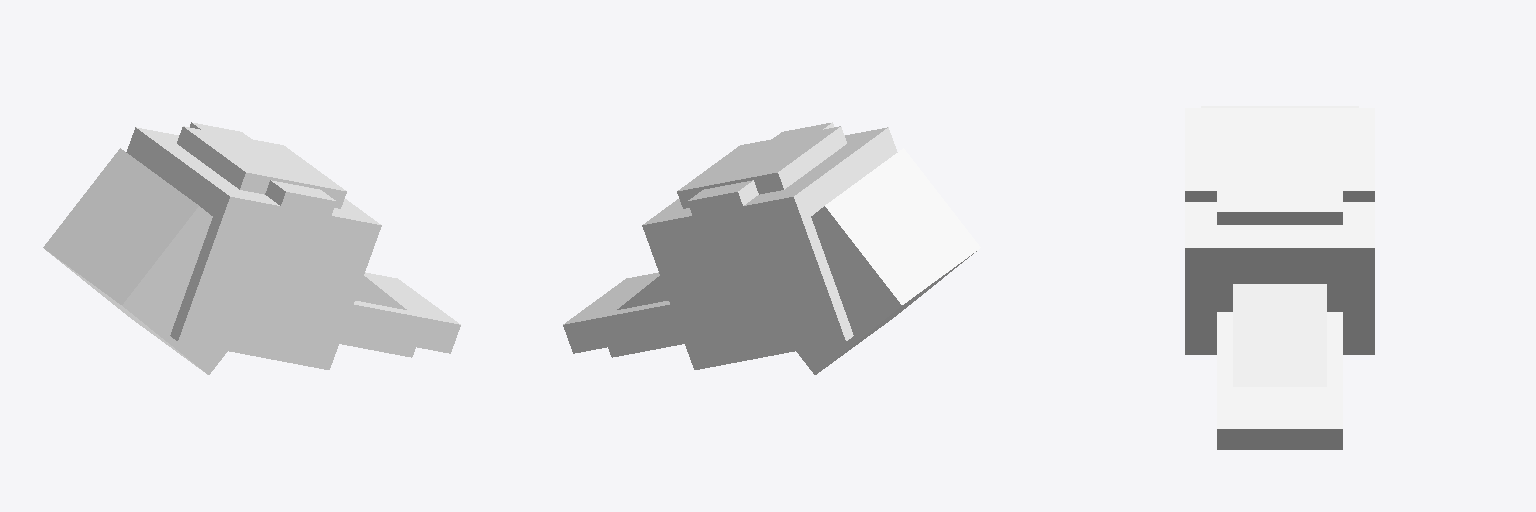
Rendered from swan_standing_head.obj.
3 renders of one model, left to right at view 1: azimuth 30°, elevation 25°; view 2: azimuth 150°, elevation 25°; view 3: azimuth 270°, elevation 25°, orthographic.
Parts seen in each view (by area): view 1: Element #31, Element #29, Element #28, Element #27, Element #3, Element #9, Element #8, Element #21; view 2: Element #31, Element #29, Element #28, Element #27, Element #3, Element #9, Element #8, Element #21; view 3: Element #27, Element #3, Element #9, Element #21, Element #28, Element #29.
Boxes of the visible parts, <box> form: Element #31: <box>43,148,227,374</box>; Element #29: <box>126,127,280,350</box>; Element #28: <box>190,122,336,360</box>; Element #27: <box>279,199,381,369</box>; Element #3: <box>177,126,346,208</box>; Element #9: <box>343,272,460,353</box>; Element #8: <box>339,334,415,357</box>; Element #21: <box>356,276,406,309</box>; Element #31: <box>796,148,980,374</box>; Element #29: <box>743,127,897,350</box>; Element #28: <box>687,122,833,360</box>; Element #27: <box>642,199,744,369</box>; Element #3: <box>677,126,846,208</box>; Element #9: <box>563,272,680,353</box>; Element #8: <box>608,334,684,357</box>; Element #21: <box>617,276,667,309</box>; Element #27: <box>1185,202,1374,354</box>; Element #3: <box>1217,119,1342,224</box>; Element #9: <box>1217,312,1342,449</box>; Element #21: <box>1233,284,1326,386</box>; Element #28: <box>1185,144,1374,201</box>; Element #29: <box>1185,108,1374,143</box>.
Bounding box in the file's own units: 6.34 × 4.08 × 3.